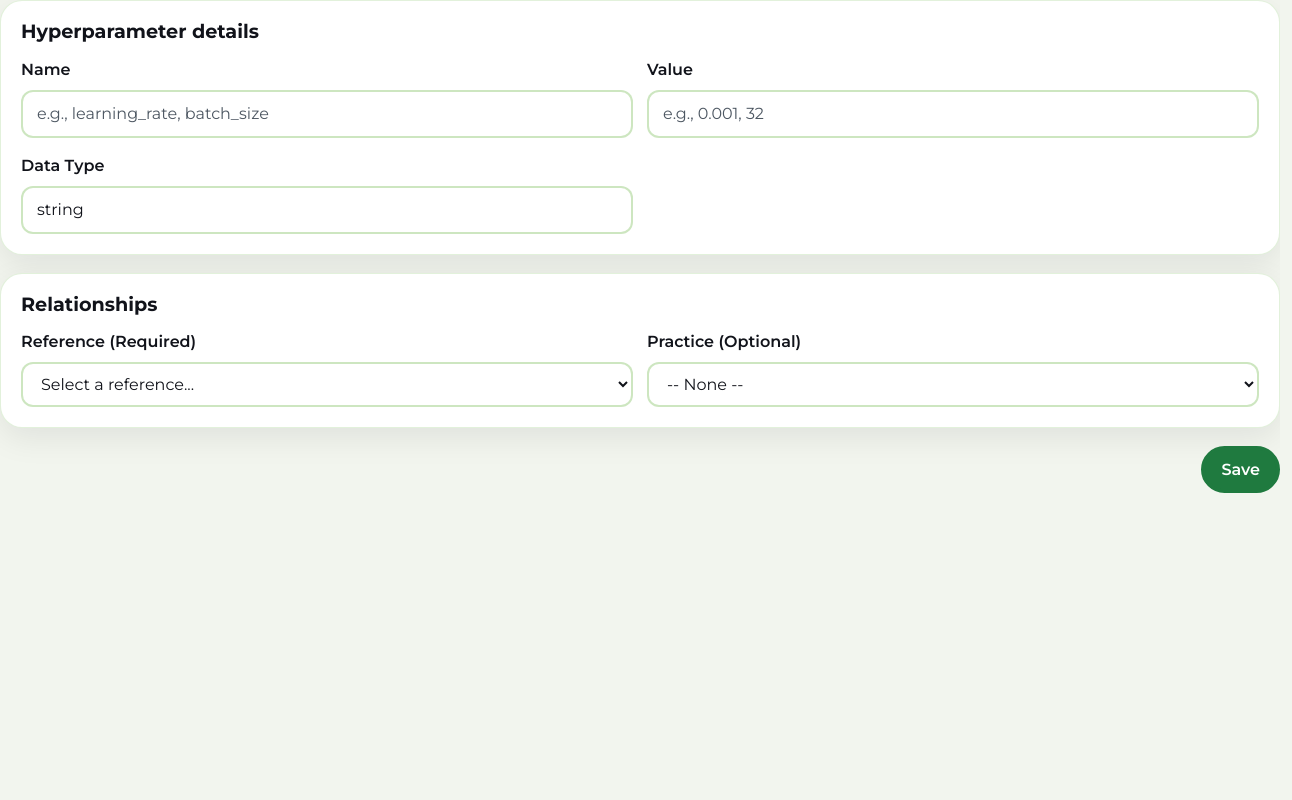
Test: HyperparameterForm › shows error on failed submission
The width and height of the screenshot is (1292, 800).
In the field labelled "Name": x=327, y=114 [21,90,633,138], type "learning_rate"
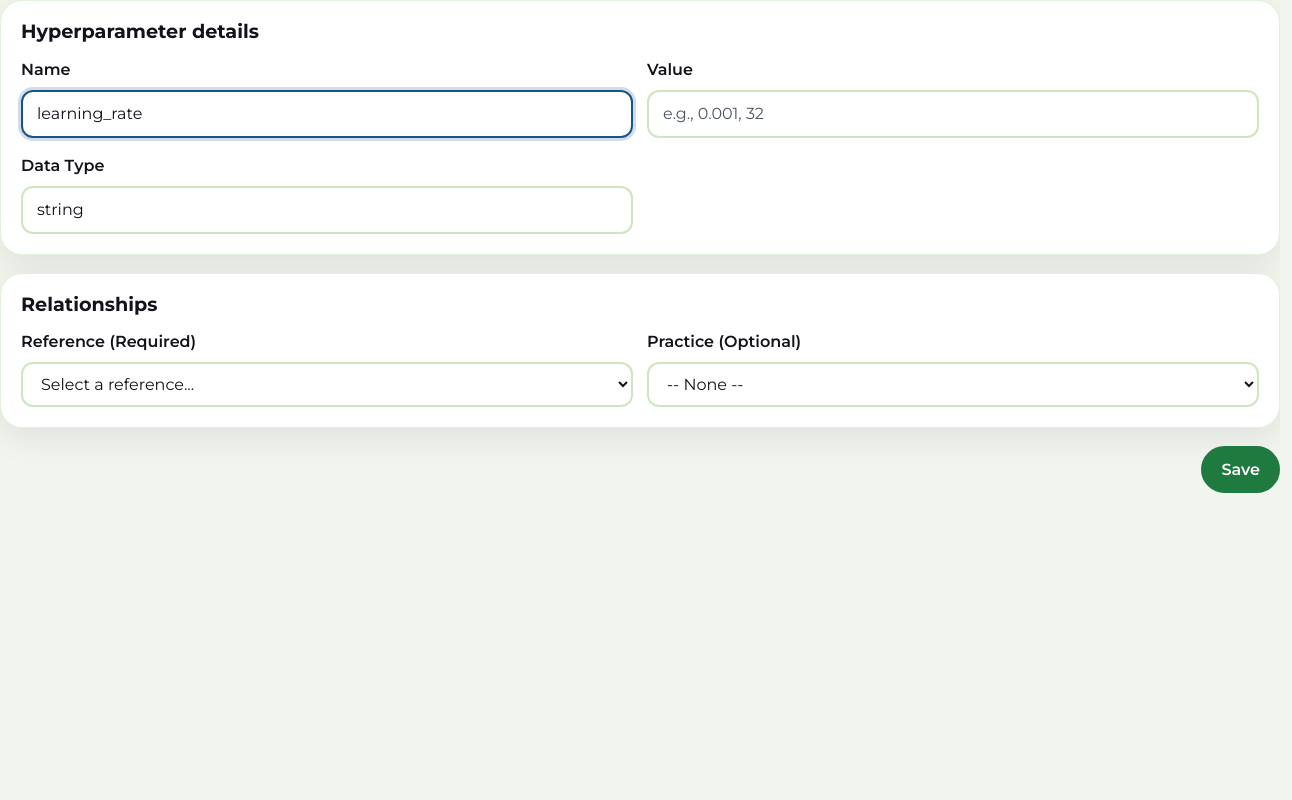
In the field labelled "Value": x=953, y=114 [647,90,1259,138], type "0.001"
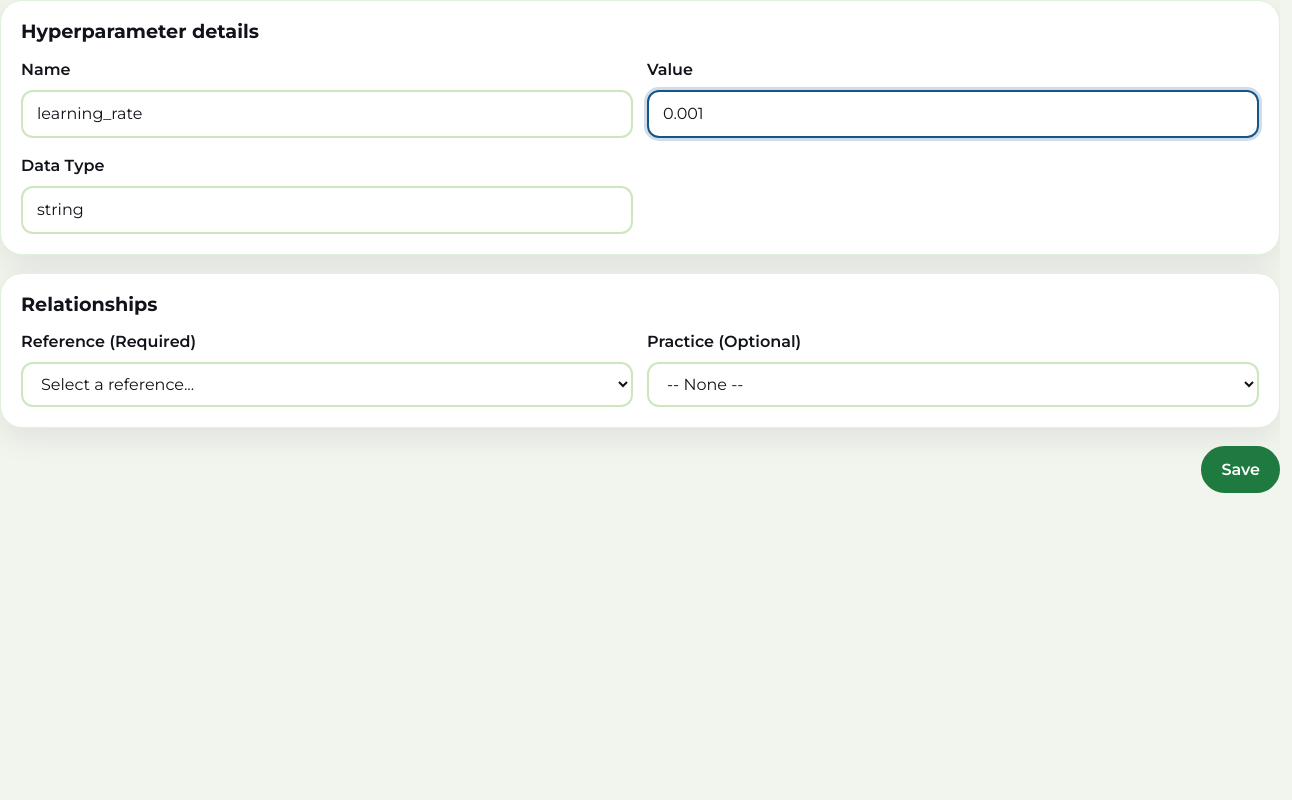
Select "Paper A (2024)" in the dropdown labelled "Reference (Required)": x=327, y=385 [21,362,633,408]
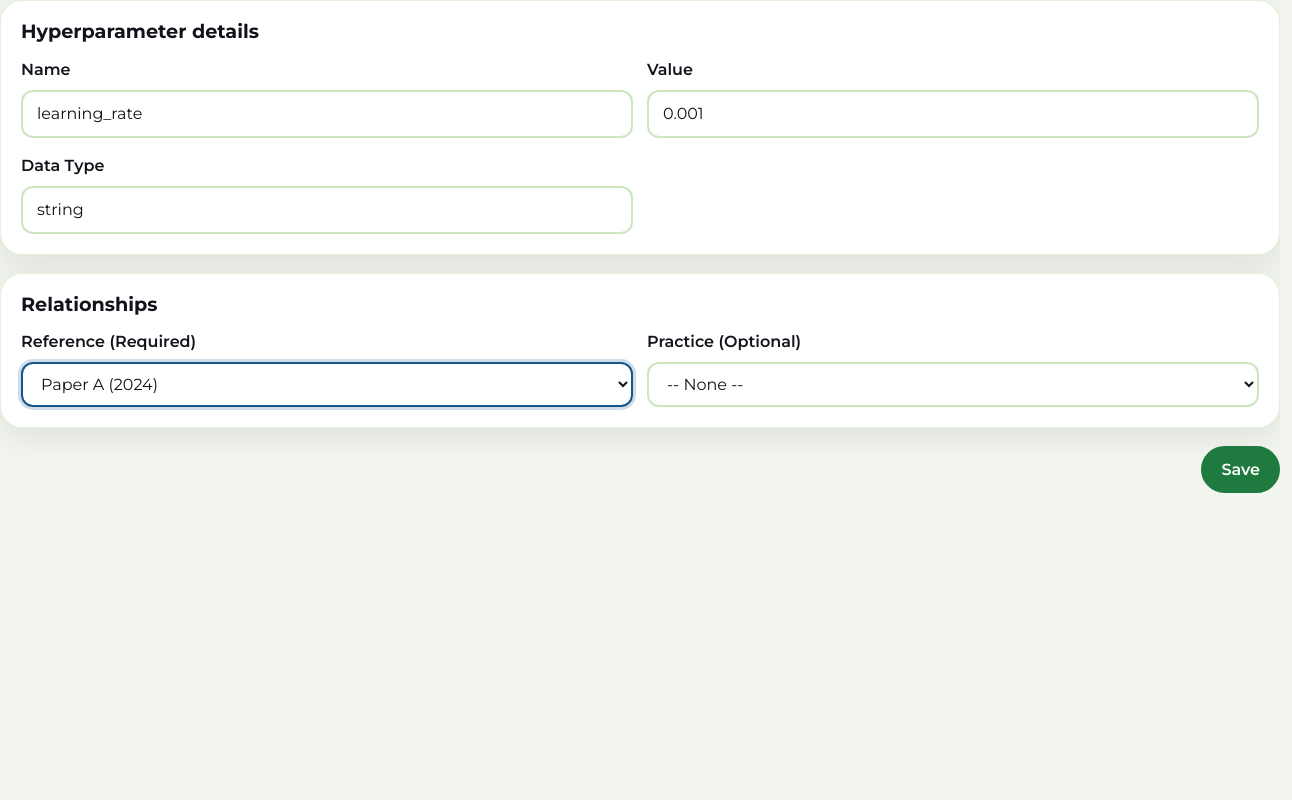
Click the button "Save": x=1241, y=470 [1201,446,1280,494]
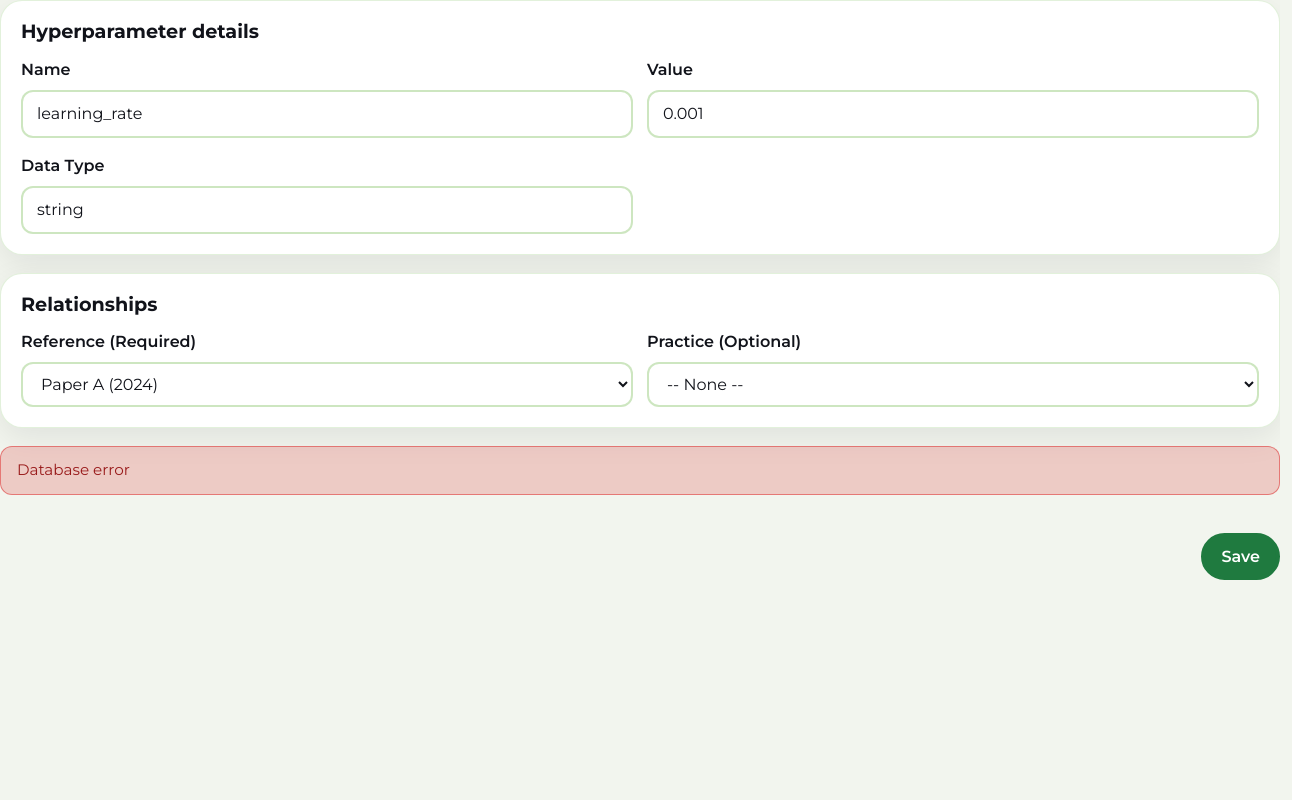
Now the text "Database error" is shown, box [0,446,1280,495]
